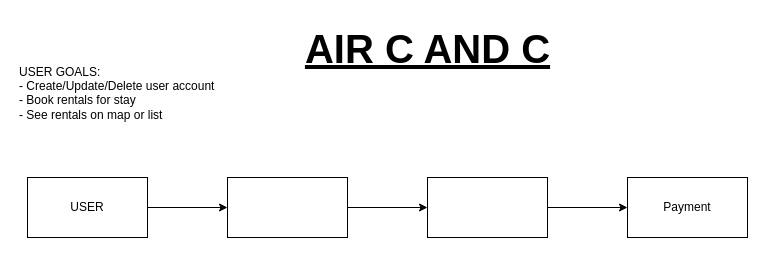
This 765x255 diagram has some shape labels left out. Here are the shapes that lost their labels. From the top down, the box of each, then its label:
(226, 176, 348, 238): Browse Rental
(426, 176, 548, 238): Book Rental
